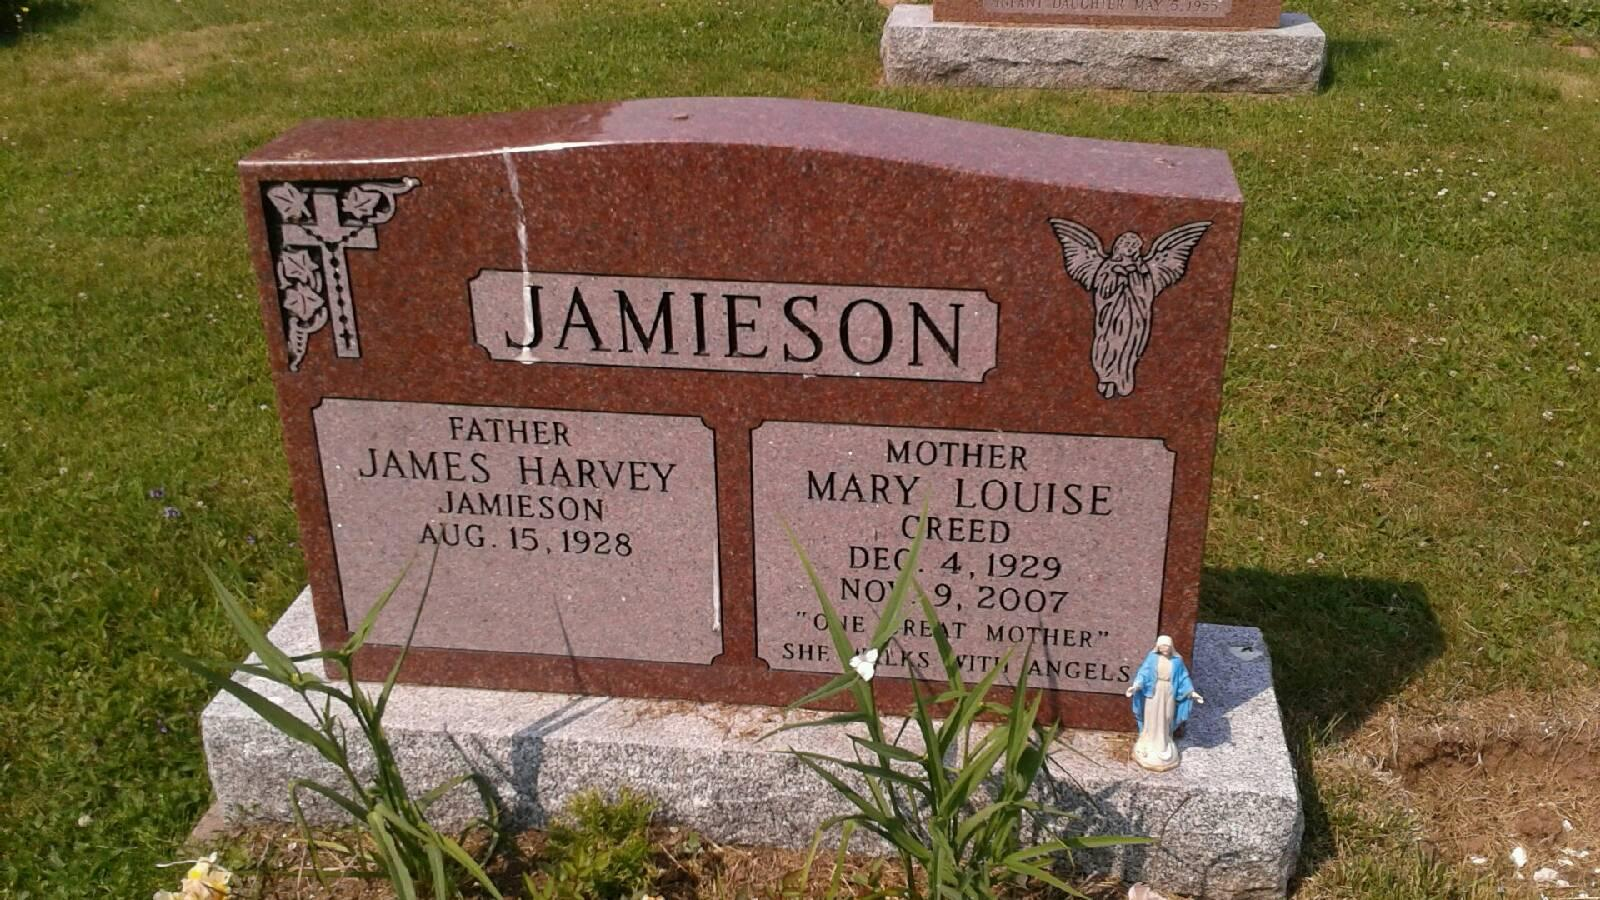upright: (138, 80, 1349, 890)
